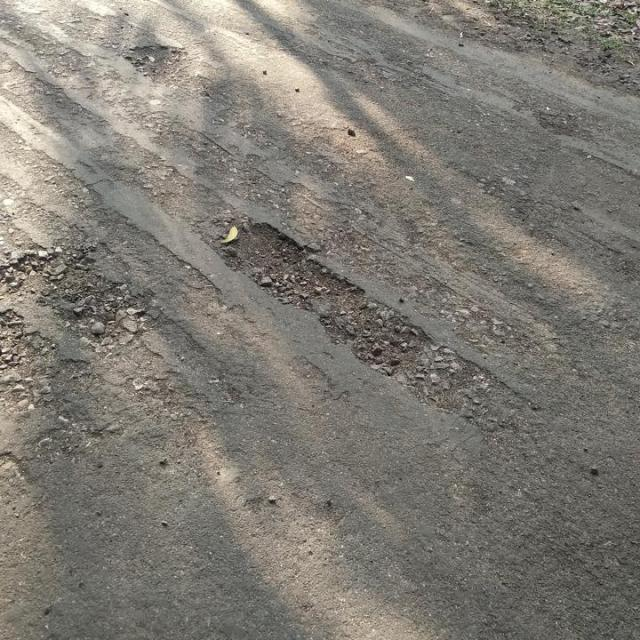Pothole: (205, 216, 434, 379), (2, 242, 156, 351), (2, 307, 62, 374), (122, 39, 193, 90)
